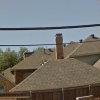Chimney: (48, 27, 73, 62)
